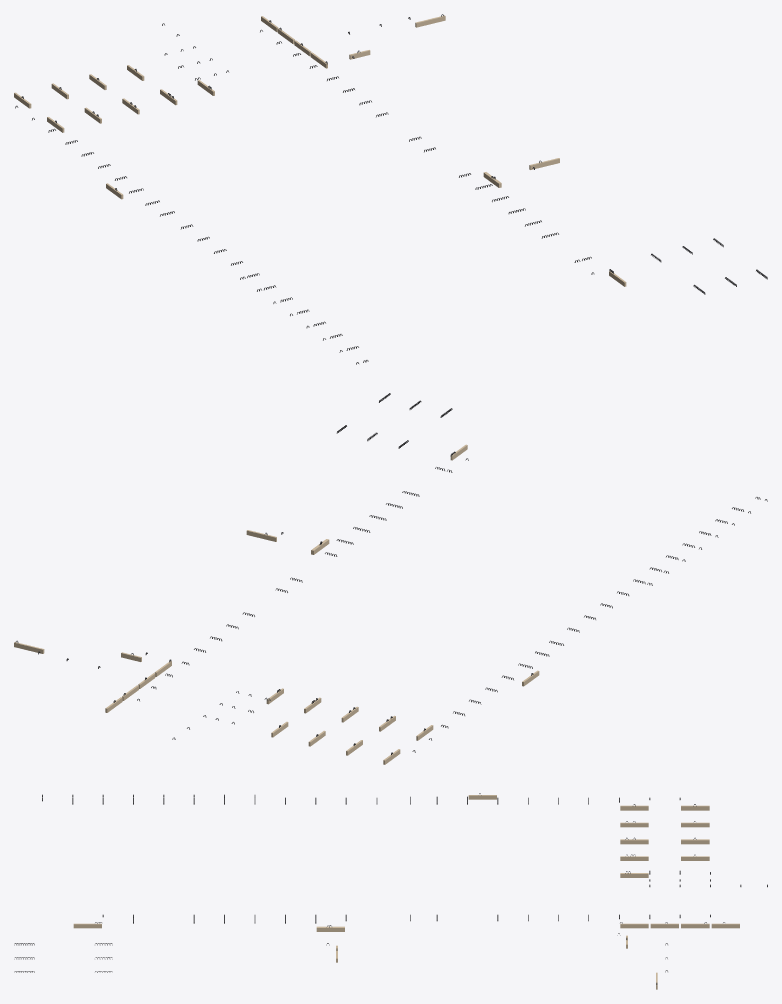
Rendered from slab_pipes_supply__plumbing-attic_repipe__r4y.glb.
3 views of the same model, one above another, from view 1: azimuth 30°, elevation 25°; view 2: azimuth 150°, elevation 25°; view 3: azimuth 270°, elevation 25° (orthographic). The views are drawn at different scales.
Visible parts, largest first — view 1: blocking_supply_repipe_bays, clip_supply_repipe; view 2: blocking_supply_repipe_bays, clip_supply_repipe; view 3: blocking_supply_repipe_bays, clip_supply_repipe.
Part boxes in pixels (left/top/right/bottom): blocking_supply_repipe_bays: left=14, top=15, right=626, bottom=286; clip_supply_repipe: left=15, top=14, right=767, bottom=364; blocking_supply_repipe_bays: left=14, top=444, right=539, bottom=764; clip_supply_repipe: left=15, top=393, right=767, bottom=755; blocking_supply_repipe_bays: left=73, top=795, right=739, bottom=989; clip_supply_repipe: left=14, top=793, right=767, bottom=985.
Bounding box in the file's own units: 9.06 × 0.1341 × 15.14.
